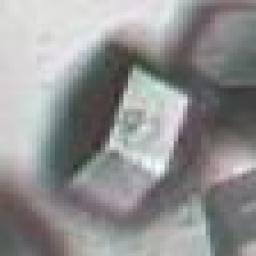crystals: (46, 43, 209, 231)
